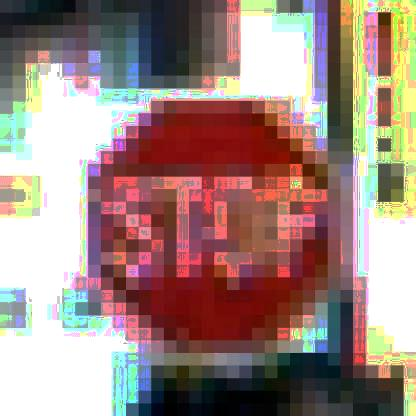Stop Sign: (74, 89, 352, 369)
